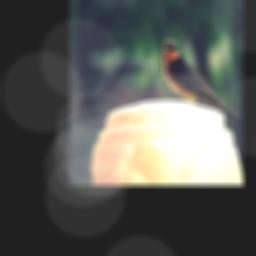Swallow: (161, 37, 241, 118)
